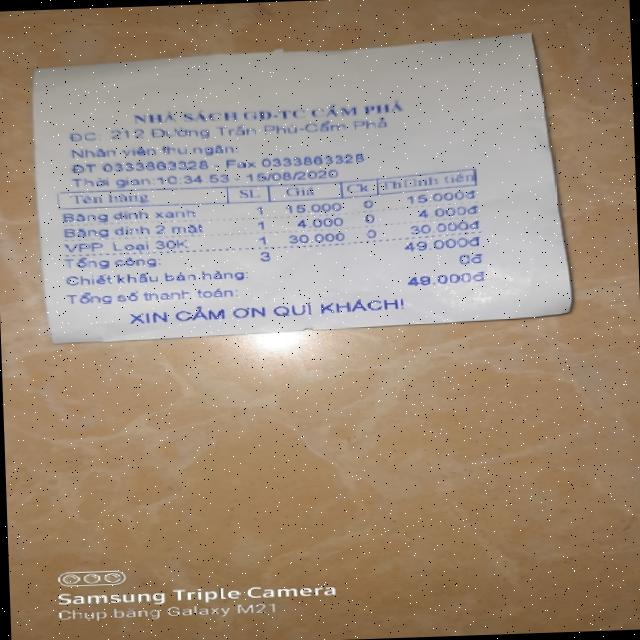Date: (244, 167, 339, 184)
Store_Name: (126, 98, 412, 125)
amount_number: (401, 272, 472, 286)
label_total: (66, 285, 235, 307)
